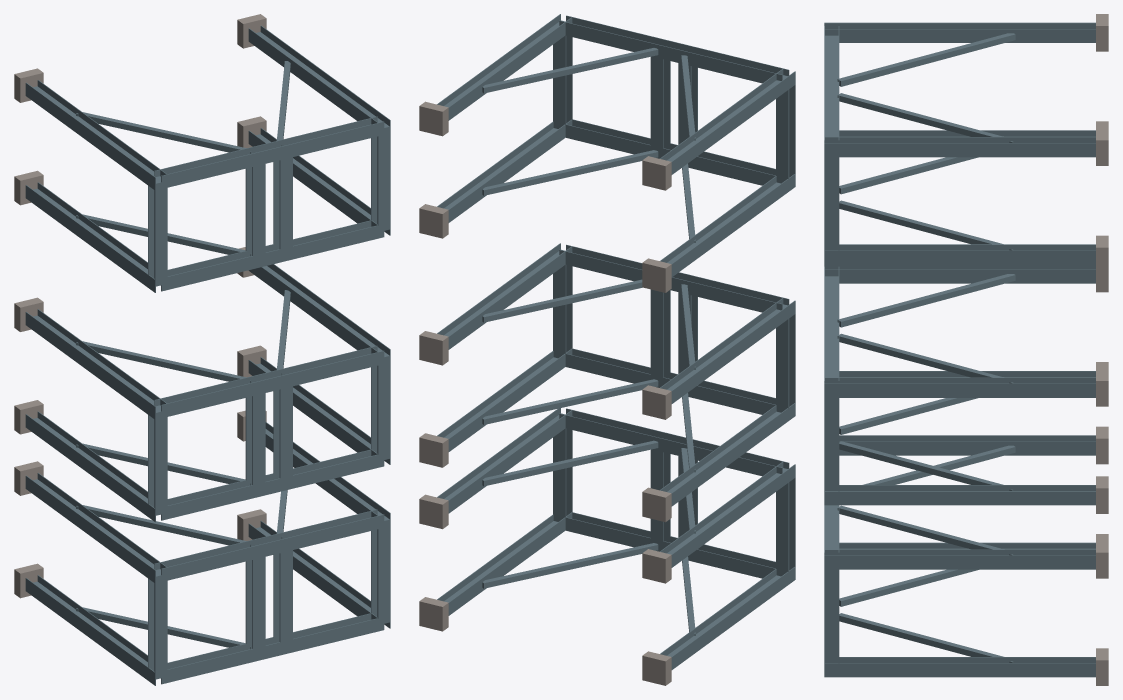
The picture shows the model from 3 angles, left to right: view 1: azimuth 30°, elevation 25°; view 2: azimuth 150°, elevation 25°; view 3: azimuth 270°, elevation 25°; orthographic projection. The views are drawn at different scales.
Parts seen in each view (by area): view 1: 钢架_GZ1柱翼缘, 钢架_GL1横梁翼缘, 钢架_GL1纵梁翼缘, 钢架_ZC1斜撑, 钢架_GZ1柱腹板, 基础_柱脚墩, 钢架_GL1纵梁腹板; view 2: 钢架_GZ1柱翼缘, 钢架_GL1横梁翼缘, 钢架_GL1纵梁翼缘, 钢架_ZC1斜撑, 基础_柱脚墩, 钢架_GZ1柱腹板, 钢架_GL1纵梁腹板; view 3: 钢架_GZ1柱翼缘, 钢架_ZC1斜撑, 基础_柱脚墩, 钢架_GL1纵梁腹板, 钢架_GL1横梁腹板, 钢架_GL1纵梁翼缘, 钢架_GL1横梁翼缘.
Part boxes in pixels (left/top/right/bottom): 钢架_GZ1柱翼缘: left=25, top=25, right=390, bottom=685; 钢架_GL1横梁翼缘: left=154, top=116, right=384, bottom=684; 钢架_GL1纵梁翼缘: left=148, top=127, right=390, bottom=679; 钢架_ZC1斜撑: left=76, top=61, right=290, bottom=649; 钢架_GZ1柱腹板: left=33, top=32, right=389, bottom=679; 基础_柱脚墩: left=14, top=14, right=266, bottom=598; 钢架_GL1纵梁腹板: left=154, top=137, right=377, bottom=671; 钢架_GZ1柱翼缘: left=437, top=14, right=795, bottom=669; 钢架_GL1横梁翼缘: left=559, top=15, right=789, bottom=578; 钢架_GL1纵梁翼缘: left=553, top=35, right=795, bottom=575; 钢架_ZC1斜撑: left=482, top=48, right=695, bottom=635; 基础_柱脚墩: left=419, top=101, right=671, bottom=685; 钢架_GZ1柱腹板: left=444, top=20, right=787, bottom=656; 钢架_GL1纵梁腹板: left=566, top=36, right=789, bottom=570; 钢架_GZ1柱翼缘: left=824, top=22, right=1095, bottom=677; 钢架_ZC1斜撑: left=837, top=33, right=1015, bottom=662; 基础_柱脚墩: left=1096, top=14, right=1108, bottom=685; 钢架_GL1纵梁腹板: left=825, top=157, right=838, bottom=662; 钢架_GL1横梁腹板: left=825, top=35, right=838, bottom=549; 钢架_GL1纵梁翼缘: left=824, top=150, right=839, bottom=668; 钢架_GL1横梁翼缘: left=824, top=26, right=839, bottom=555.
Size of the model in its own units: 4.72 by 9.53 by 4.5.
